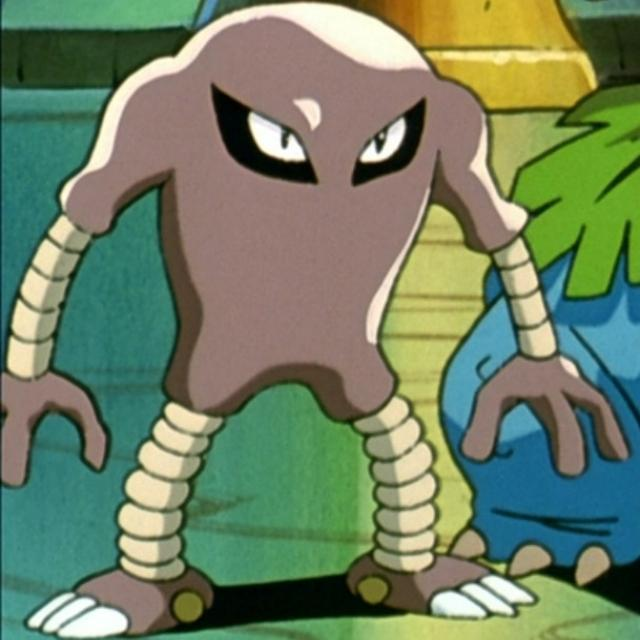Hitmonlee: (46, 8, 552, 620)
